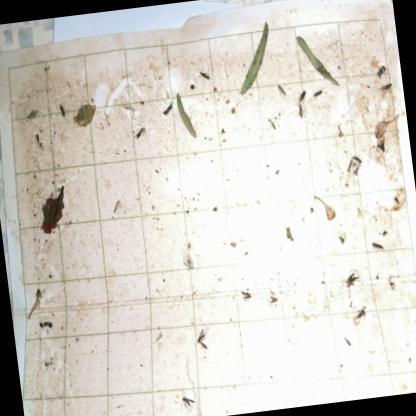prays_oleae: (190, 326, 214, 357), (338, 262, 362, 292), (264, 278, 282, 312), (176, 386, 197, 414), (350, 302, 371, 326), (159, 97, 177, 123), (130, 125, 150, 148), (273, 78, 290, 104), (308, 84, 328, 102), (367, 236, 386, 254), (239, 285, 254, 307), (292, 88, 310, 106), (196, 66, 212, 86), (296, 102, 307, 124), (380, 78, 392, 96), (56, 104, 68, 119), (376, 62, 386, 77)
